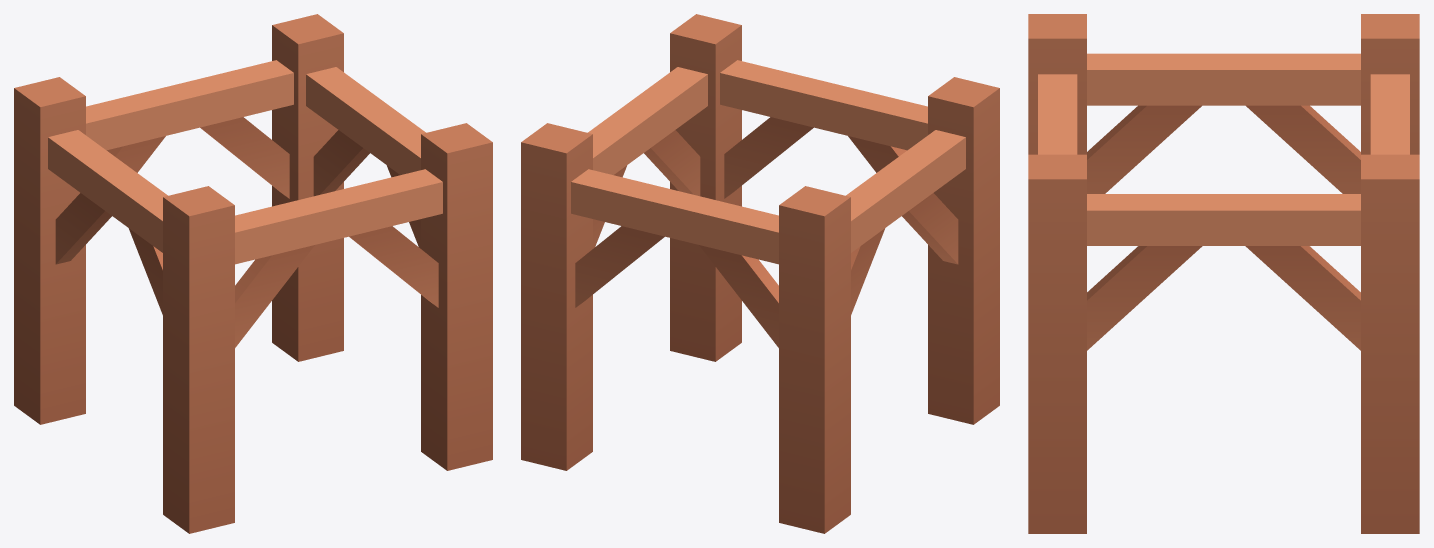
Rendered from wood-structure_lev4.glb.
3 renders of one model, left to right at view 1: azimuth 30°, elevation 25°; view 2: azimuth 150°, elevation 25°; view 3: azimuth 270°, elevation 25°, orthographic. The views are drawn at different scales.
Visible parts, largest first — view 1: wood-structure_lev4; view 2: wood-structure_lev4; view 3: wood-structure_lev4.
Boxes of the visible parts, bbox=[...] form: wood-structure_lev4: bbox=[14, 14, 492, 533]; wood-structure_lev4: bbox=[521, 14, 999, 533]; wood-structure_lev4: bbox=[1028, 14, 1419, 533].
Size of the model in its own units: 9.76 by 9.76 by 9.76.
Materials: 1 (1 with a texture image).
